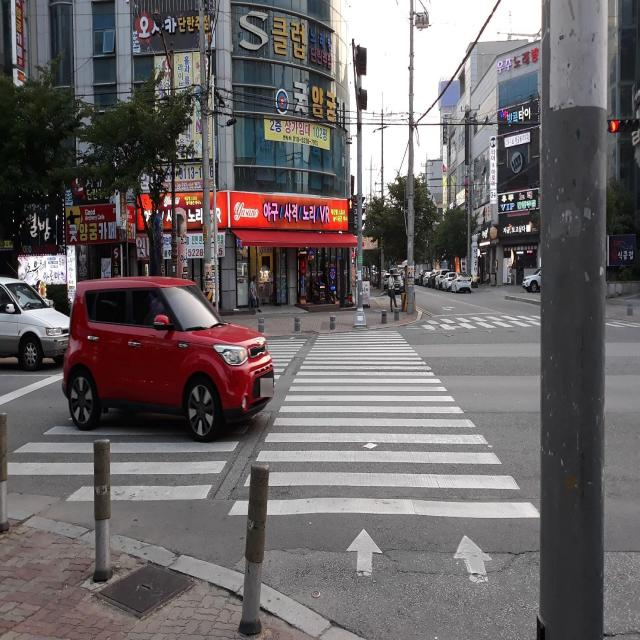횡단보도: (5, 328, 541, 588)
